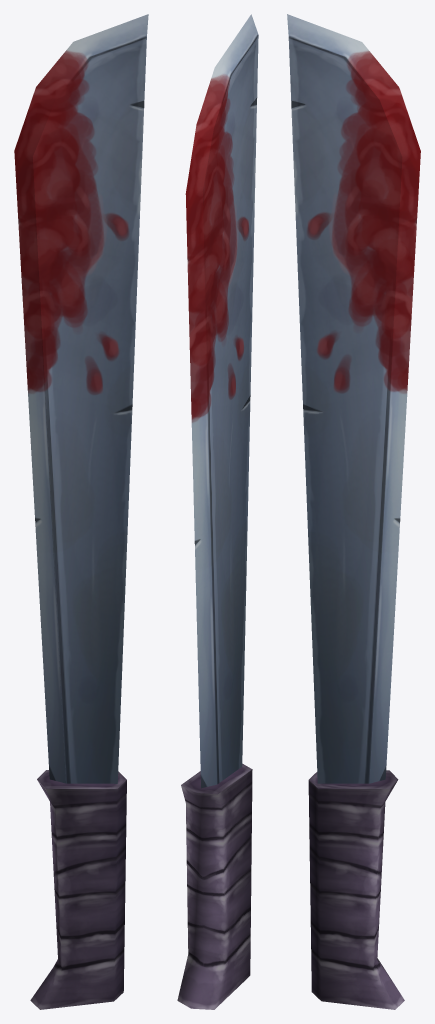
The model's file is machete_01.fbx.
The picture shows the model from 3 angles, left to right: view 1: azimuth 90°, elevation 25°; view 2: azimuth 150°, elevation 25°; view 3: azimuth 270°, elevation 25°; orthographic projection. The views are drawn at different scales.
Parts seen in each view (by area): view 1: machete_01; view 2: machete_01; view 3: machete_01.
Boxes of the visible parts, x1,y1,x2,y2 form: machete_01: (14,14,148,1009); machete_01: (177,14,258,1009); machete_01: (287,14,420,1009).
Size of the model in its own units: 0.2255 by 5.42 by 0.6675.
